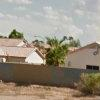Palm tree: (45, 27, 66, 70)
